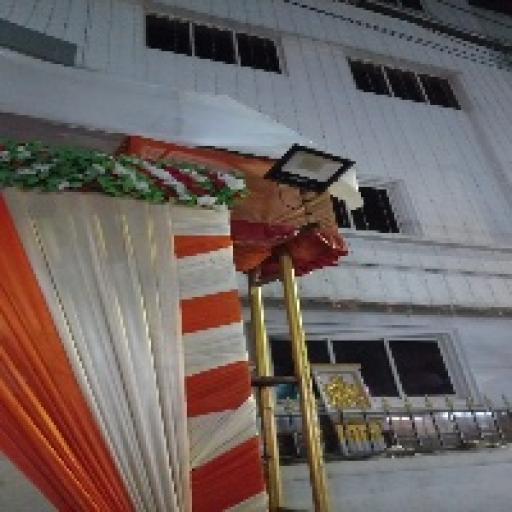Not Working: (263, 136, 355, 199)
